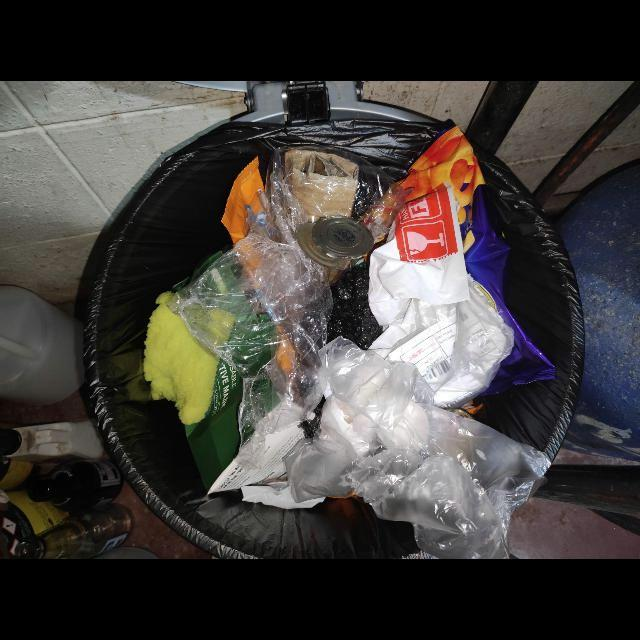aluminum: (312, 216, 375, 260), (297, 223, 352, 270)
food_wrapper: (363, 126, 555, 397), (221, 156, 264, 245)
paper: (368, 184, 470, 327)
plastic_bag: (288, 338, 551, 560)
